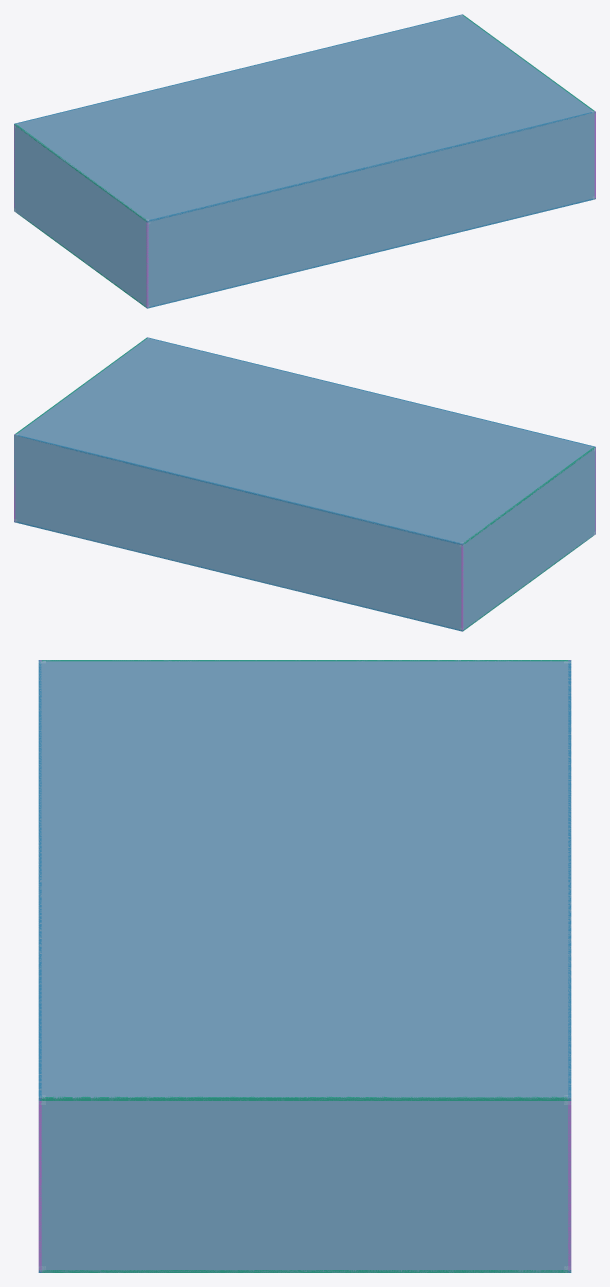
The model's file is total-envelope-total-gpu-msi-geforce-gtx-1660-ti-gaming-x-6g.glb.
The picture shows the model from 3 angles, top to bottom: view 1: azimuth 30°, elevation 25°; view 2: azimuth 150°, elevation 25°; view 3: azimuth 270°, elevation 25°; orthographic projection. The views are drawn at different scales.
Parts seen in each view (by area): view 1: Published outer envelope — not a surface-accurate model, Length guide (×3); view 2: Published outer envelope — not a surface-accurate model, Length guide (×3), Height guide; view 3: Published outer envelope — not a surface-accurate model, Height guide (×3), Length guide (×2).
Boxes of the visible parts, bbox=[...] form: Published outer envelope — not a surface-accurate model: bbox=[14, 15, 594, 307]; Length guide (×3): bbox=[14, 14, 594, 308]; Published outer envelope — not a surface-accurate model: bbox=[14, 338, 595, 630]; Length guide (×3): bbox=[14, 337, 595, 631]; Height guide: bbox=[462, 447, 594, 545]; Published outer envelope — not a surface-accurate model: bbox=[38, 660, 571, 1272]; Height guide (×3): bbox=[40, 660, 571, 1272]; Length guide (×2): bbox=[38, 660, 571, 1100].
Size of the model in its own units: 0.247 by 0.046 by 0.127.
